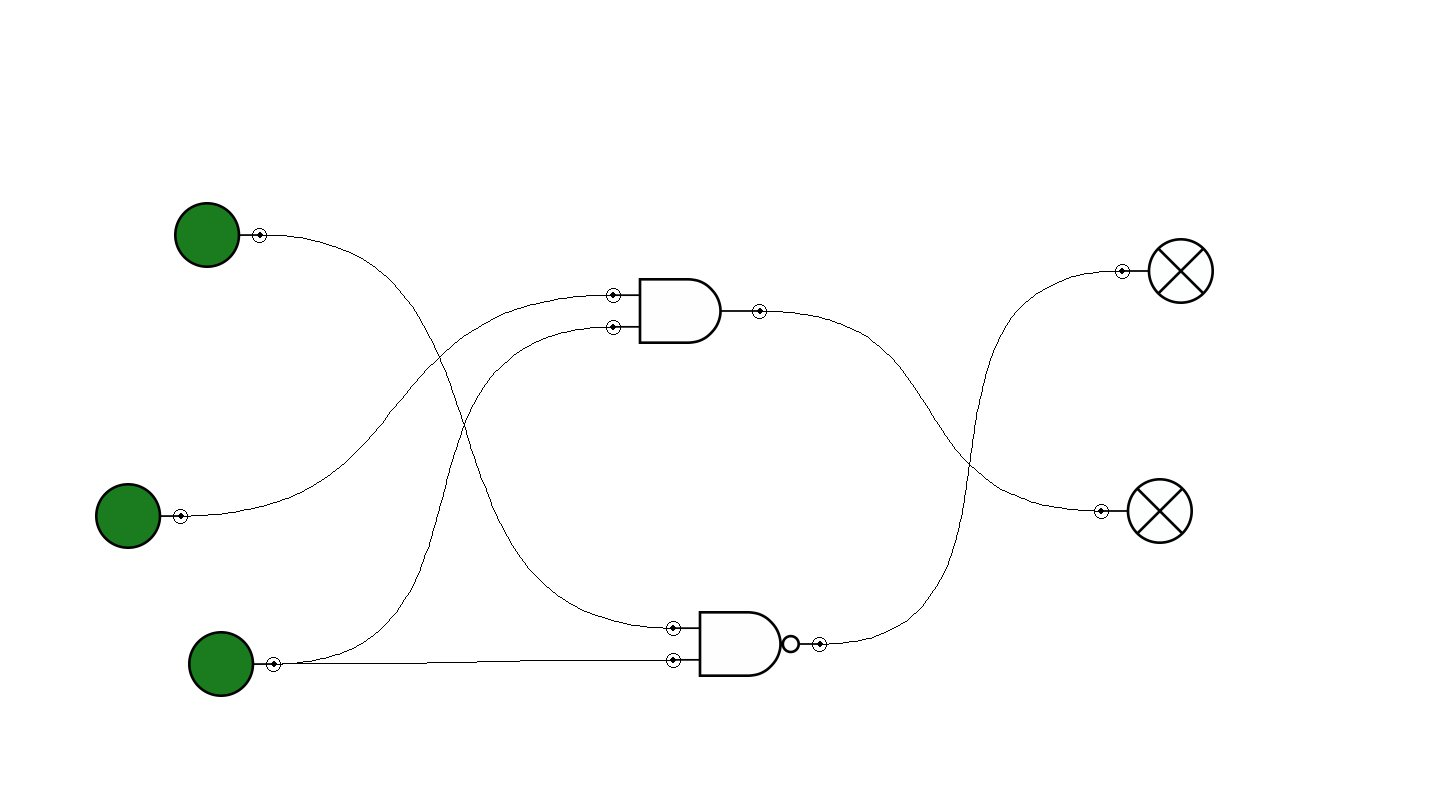and: (606, 278, 767, 344)
bulb: (1115, 238, 1214, 304), (1094, 478, 1193, 544)
nand: (666, 611, 827, 677)
switch_True: (174, 202, 267, 268), (95, 483, 188, 549), (188, 631, 281, 697)
